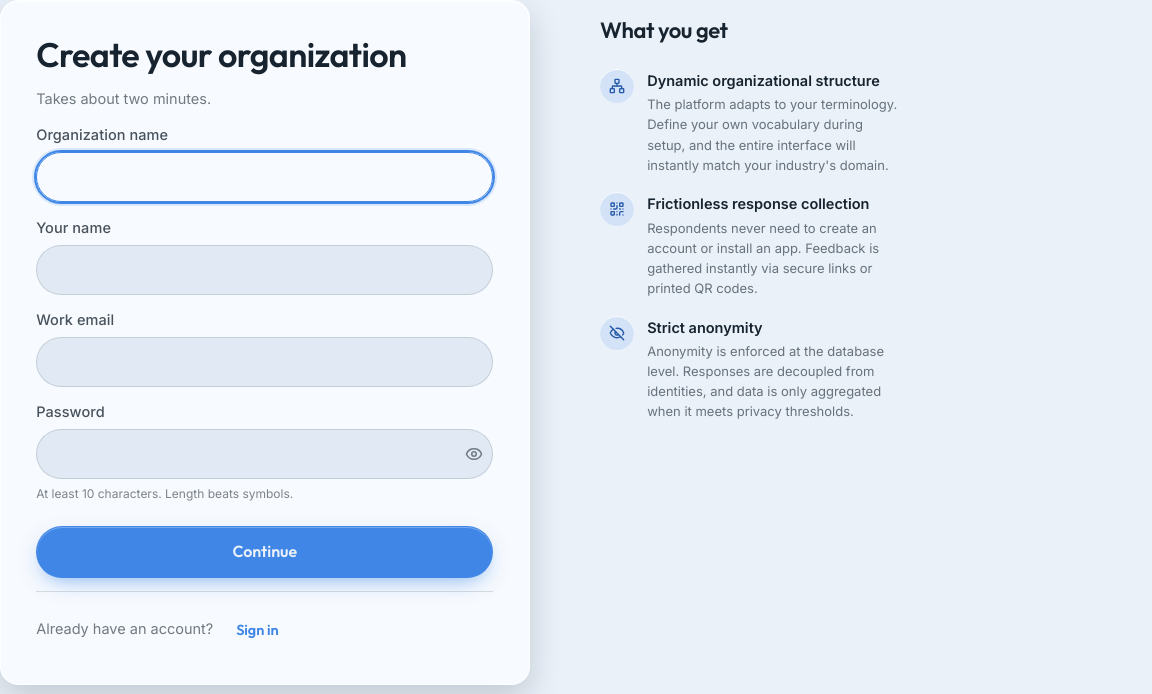
Test: choose a plan — DEC-048 › does not ask until the details are in
The width and height of the screenshot is (1152, 694).
Type "  Northfield University  " into the field labelled "Organization name".
click(265, 177); type("  Northfield University  ")  # box [36,152,493,202]
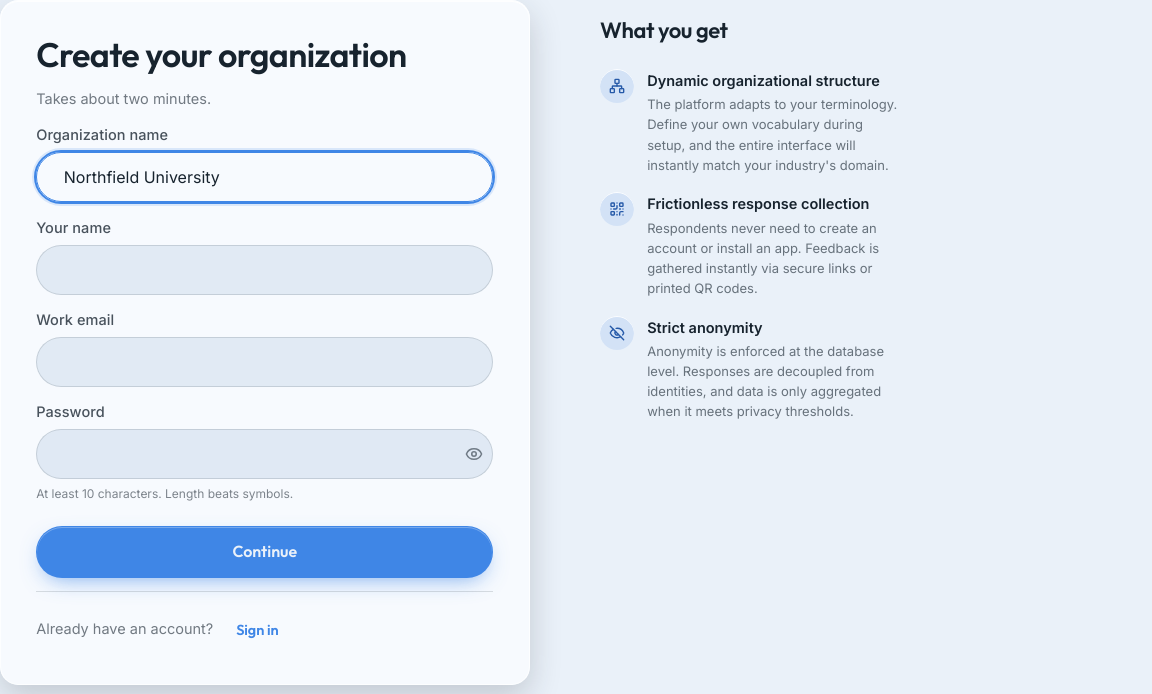
Type "Amara Rao" into the field labelled "Your name".
click(265, 270); type("Amara Rao")  # box [36,245,493,295]
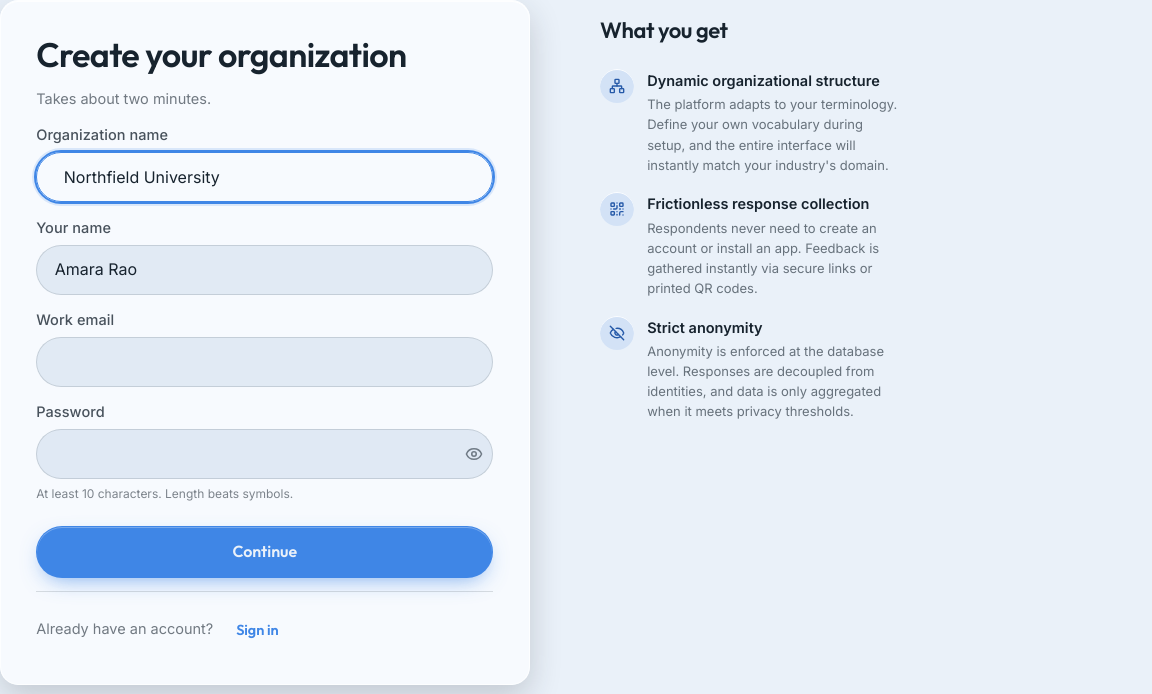
Type "amara@northfield.test" into the field labelled "Work email".
click(265, 362); type("amara@northfield.test")  # box [36,337,493,387]
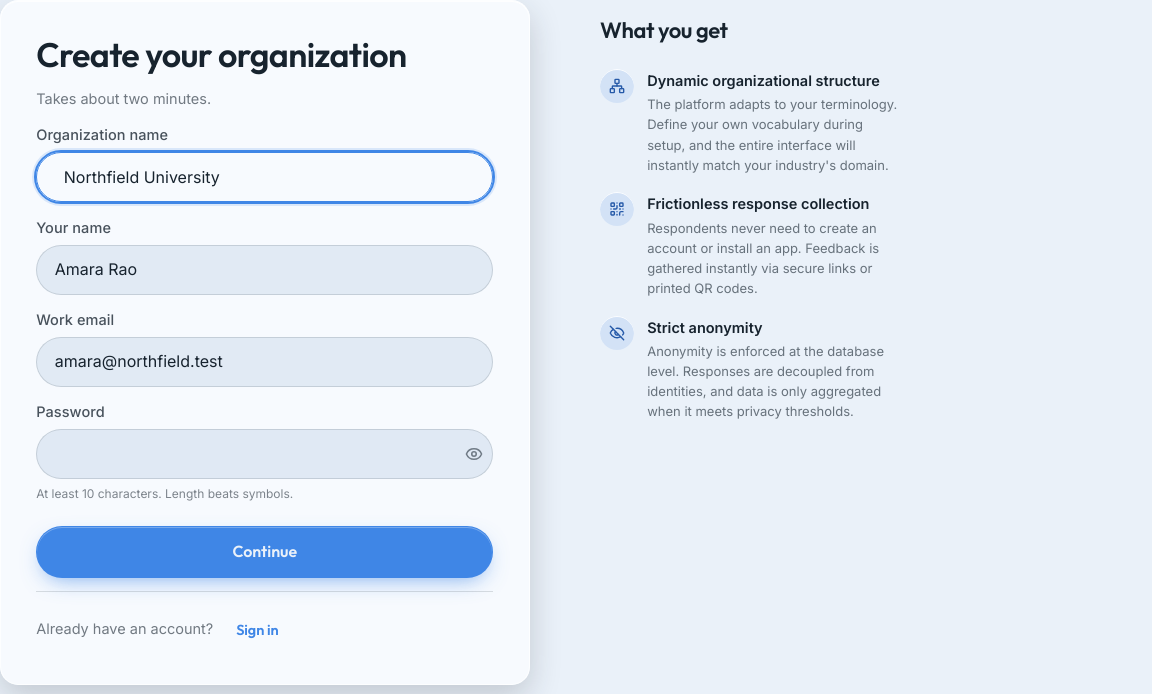
Type "a-long-enough-one" into the password field labelled "Password".
click(265, 454); type("a-long-enough-one")  # box [36,430,493,480]
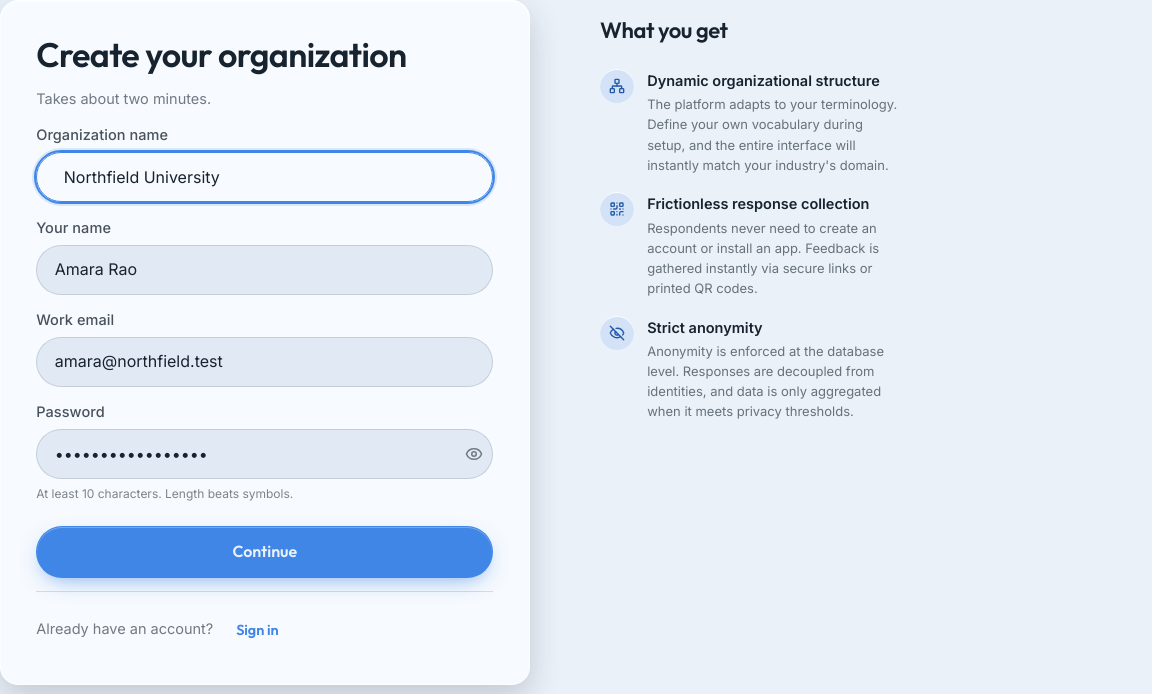
Click the button "Continue".
click(265, 552)  # box [36,526,493,578]
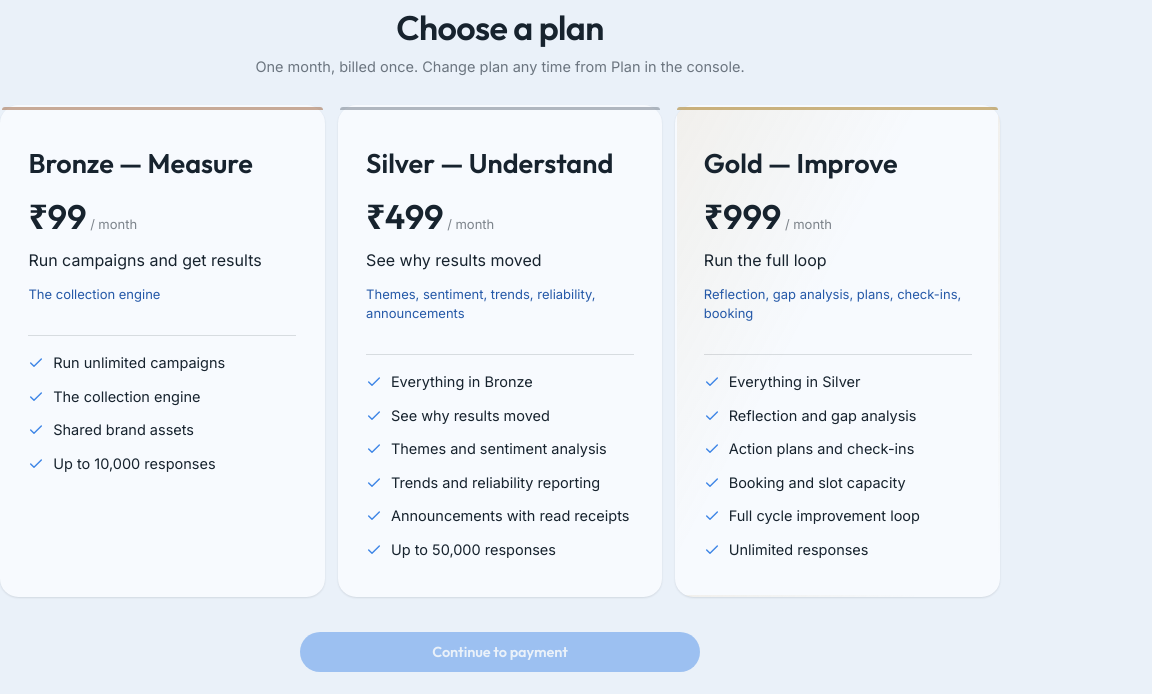
Expected: the element named "Plan" is shown
Expected: the heading "Choose a plan" is shown, [396,6,604,49]
